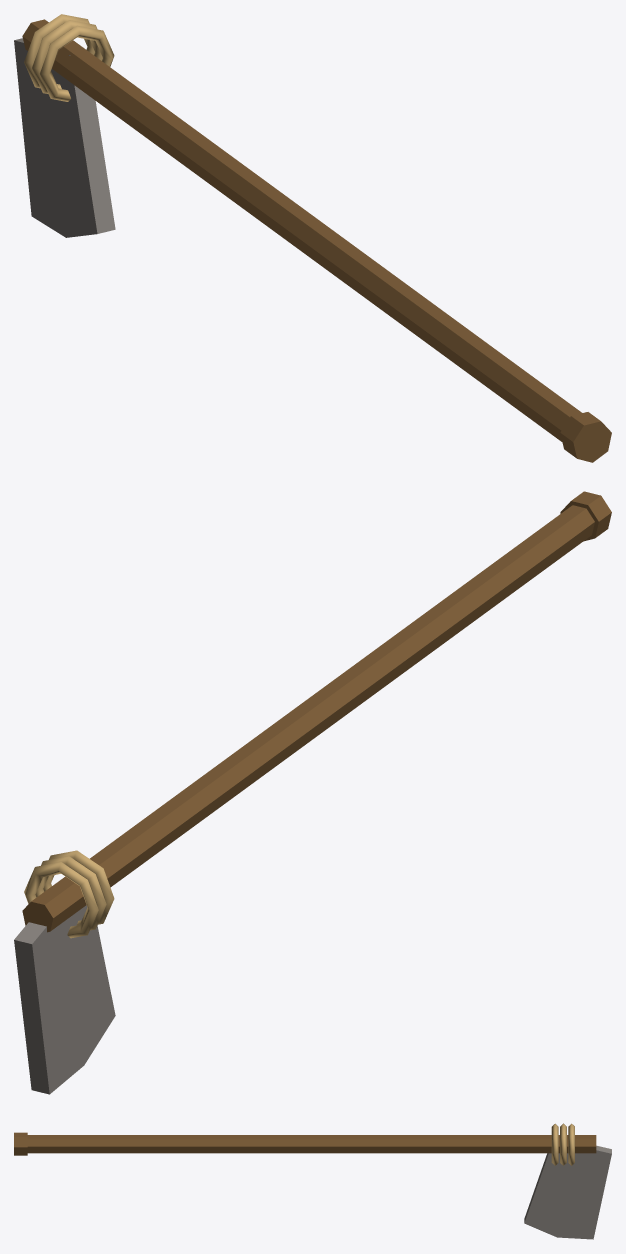
Rendered from Tool_Hoe_Stone.fbx.
3 views of the same model, one above another, from view 1: azimuth 30°, elevation 25°; view 2: azimuth 150°, elevation 25°; view 3: azimuth 270°, elevation 25° (orthographic). The views are drawn at different scales.
Visible parts, largest first — view 1: Tool_Hoe_Stone; view 2: Tool_Hoe_Stone; view 3: Tool_Hoe_Stone.
Part boxes in pixels (left/top/right/bottom): Tool_Hoe_Stone: left=14, top=14, right=611, bottom=462; Tool_Hoe_Stone: left=14, top=491, right=611, bottom=1094; Tool_Hoe_Stone: left=14, top=1123, right=611, bottom=1239.
Size of the model in its own units: 0.033 by 0.0908 by 0.4353.
